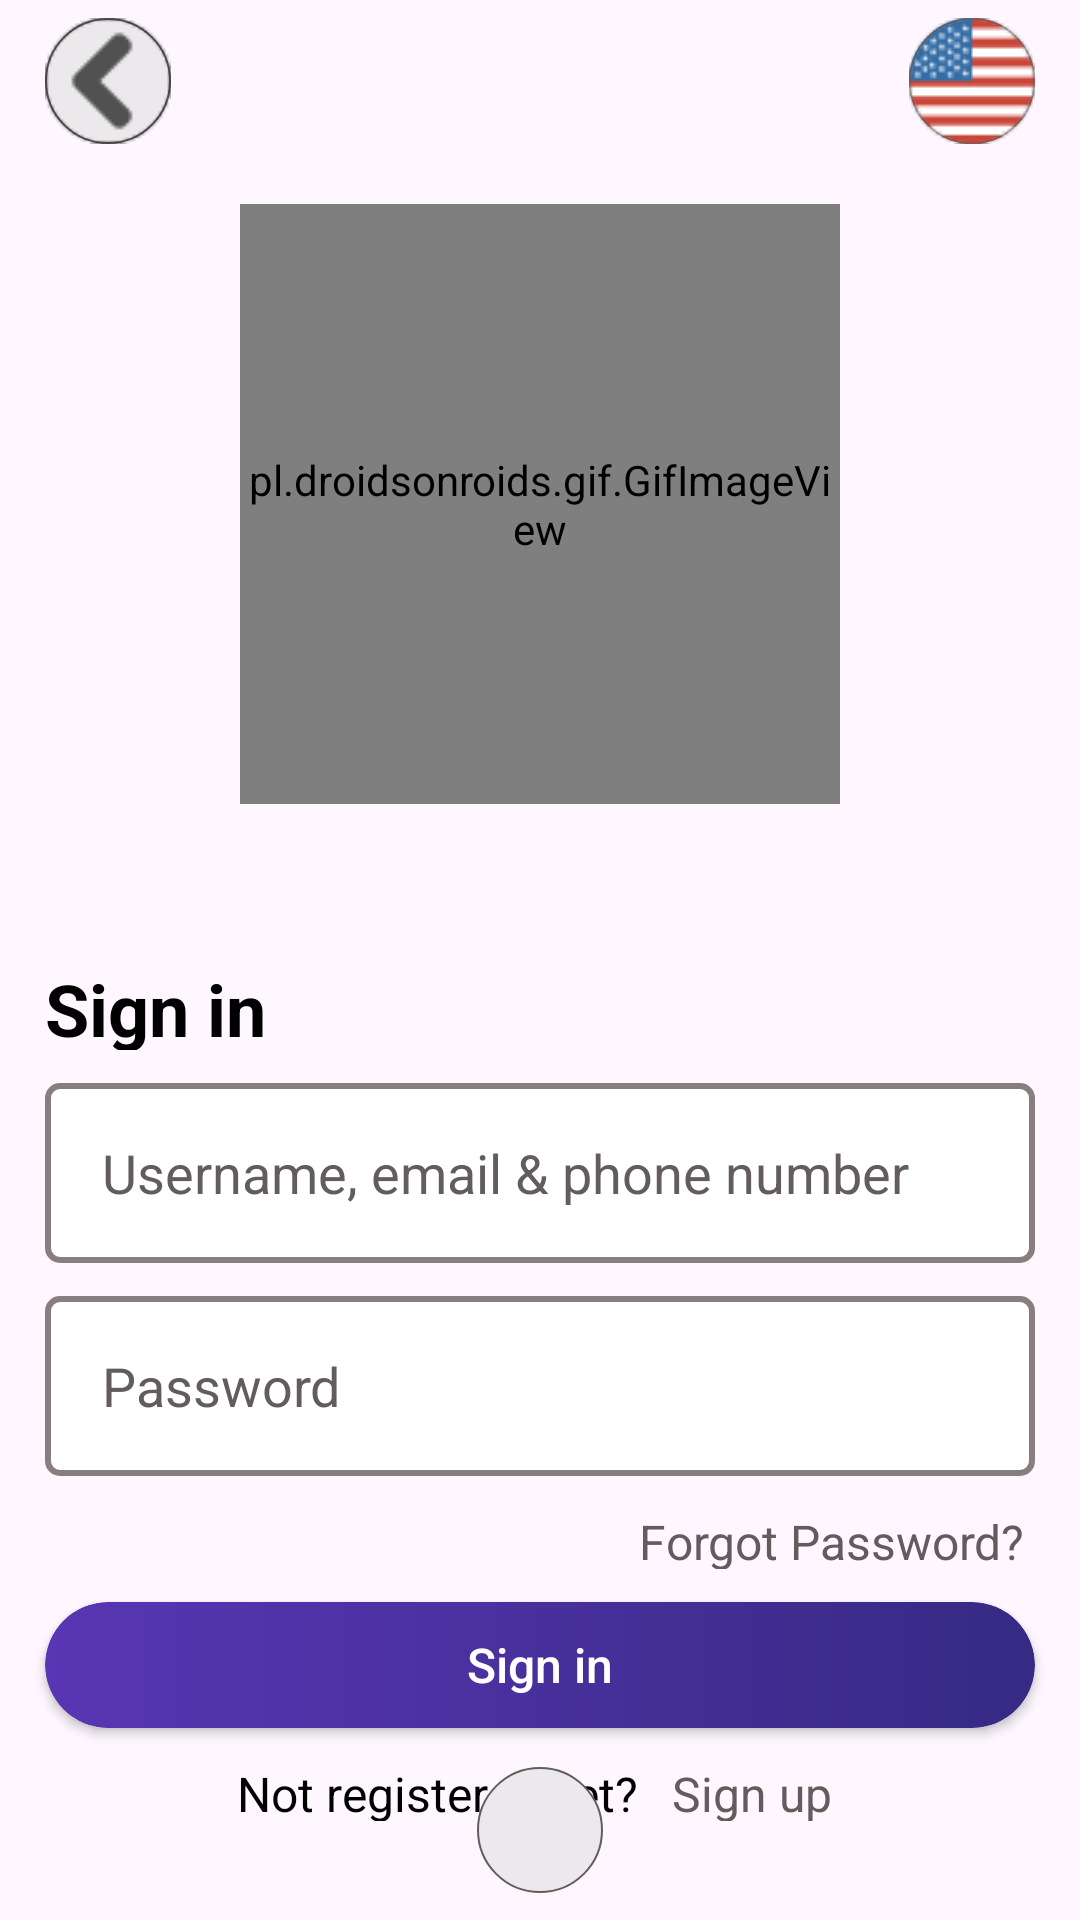

Named icons in this screenshot (1080x1920) and their bounding boxes, {"x1": x1, "y1": y1, "x2": x2, "y2": y2}:
back arrow: {"x1": 45, "y1": 18, "x2": 171, "y2": 144}
